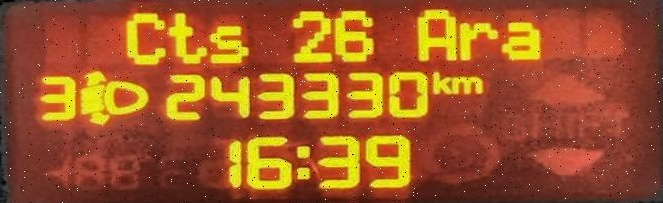0: (385, 68, 433, 119)
1: (224, 134, 243, 190)
2: (290, 6, 333, 64), (162, 70, 206, 119)
3: (316, 132, 361, 191), (33, 72, 79, 123), (256, 69, 295, 119), (302, 70, 340, 119), (348, 70, 382, 119)
4: (210, 72, 252, 119)
6: (244, 135, 290, 191), (333, 7, 376, 62)
9: (365, 131, 414, 190)
X: (414, 6, 460, 62), (122, 10, 165, 64), (167, 10, 209, 64), (458, 16, 496, 59), (209, 22, 248, 63), (503, 19, 541, 61), (292, 142, 312, 181), (451, 72, 481, 95), (428, 70, 450, 95)
